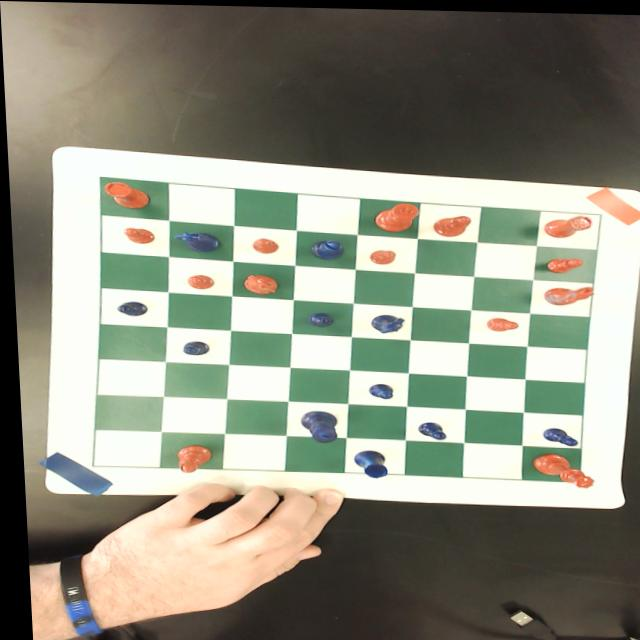B: (306, 238, 343, 257)
K: (294, 408, 335, 441)
N: (168, 228, 218, 251), (365, 312, 402, 332)
P: (538, 424, 574, 444), (413, 419, 444, 437), (113, 300, 146, 315), (177, 339, 208, 354), (303, 310, 331, 325), (365, 381, 390, 397)
R: (348, 448, 383, 476)
b: (167, 443, 209, 472), (430, 212, 471, 235)
k: (371, 200, 418, 230)
n: (540, 280, 594, 304), (239, 271, 278, 293)
p: (541, 254, 582, 270), (482, 313, 517, 330), (121, 226, 153, 243), (249, 235, 278, 252), (365, 247, 395, 263), (184, 273, 213, 288)
q: (527, 449, 591, 485)
r: (100, 180, 151, 208), (541, 211, 592, 236)
